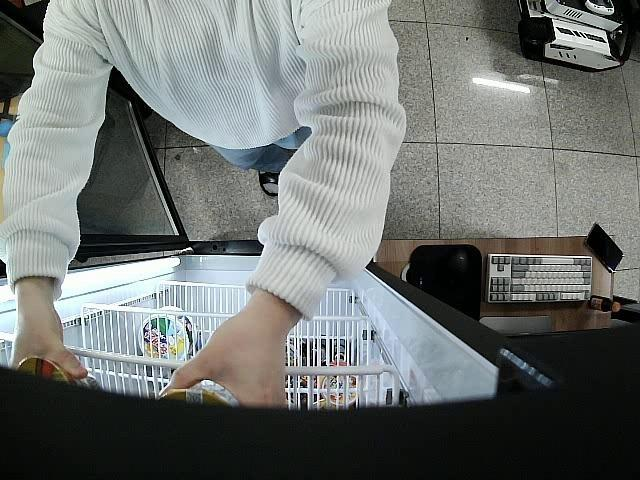04_chapagetti_S: (15, 359, 103, 390), (162, 389, 231, 404)
